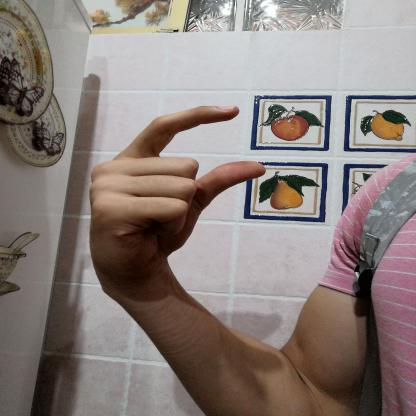DELL: (76, 92, 278, 292)
